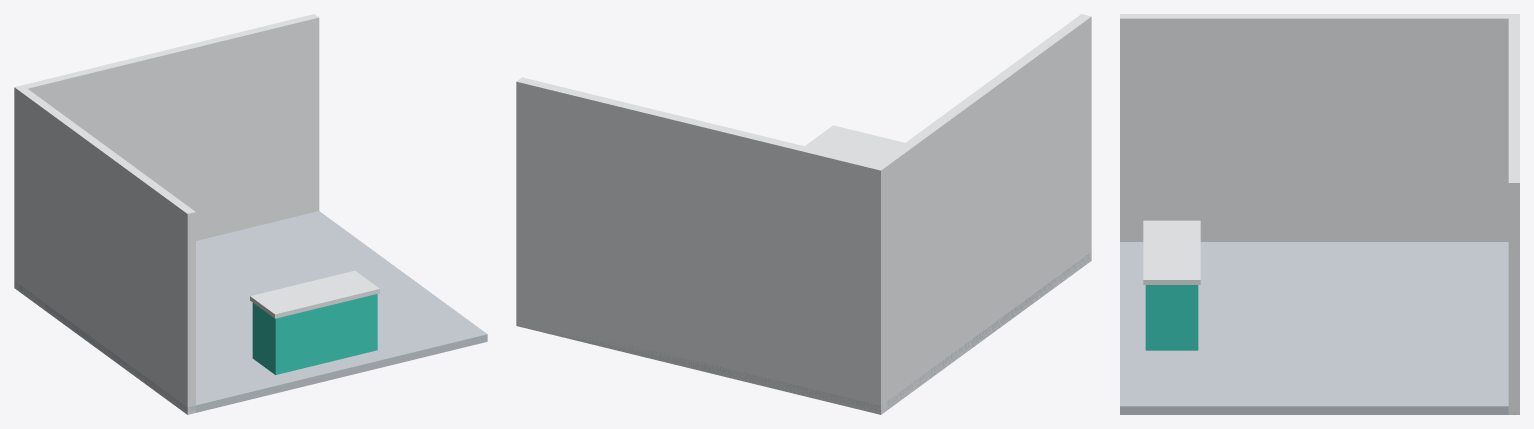
The picture shows the model from 3 angles, left to right: view 1: azimuth 30°, elevation 25°; view 2: azimuth 150°, elevation 25°; view 3: azimuth 270°, elevation 25°; orthographic projection. The views are drawn at different scales.
Parts seen in each view (by area): view 1: Exhibition Booth Concept; view 2: Exhibition Booth Concept; view 3: Exhibition Booth Concept.
Boxes of the visible parts, x1,y1,x2,y2 form: Exhibition Booth Concept: (14, 14, 487, 414); Exhibition Booth Concept: (516, 14, 1091, 414); Exhibition Booth Concept: (1120, 14, 1519, 414).
Size of the model in its own units: 5 by 3.2 by 5.
